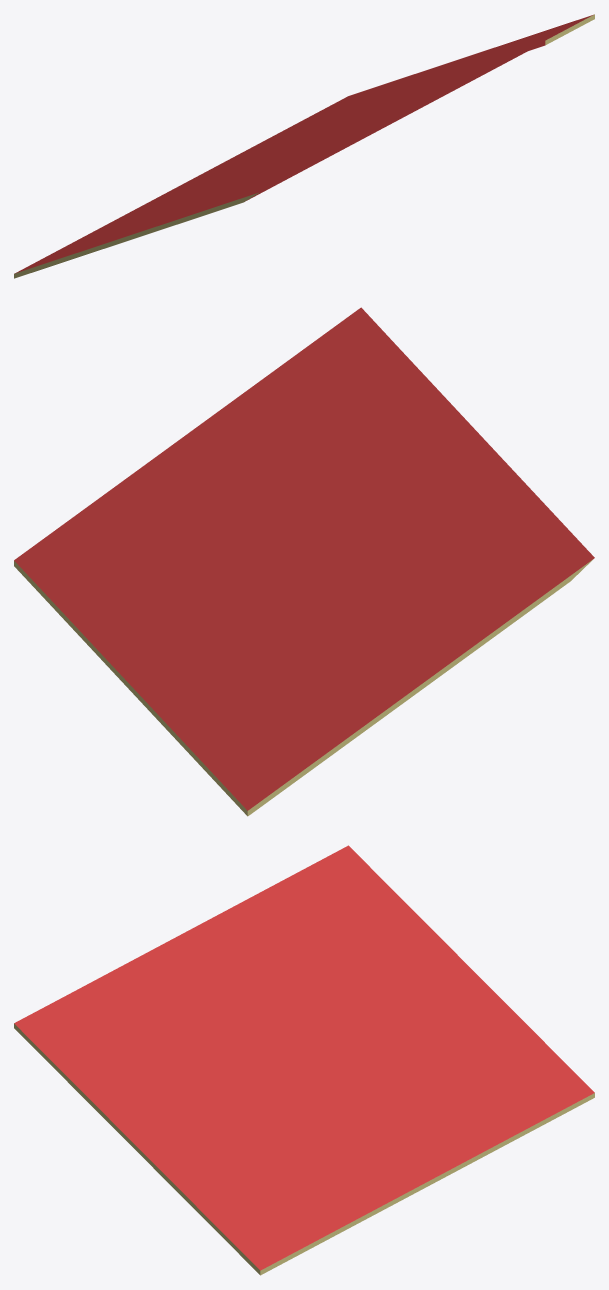
3 views of the same model, one above another, from view 1: azimuth 90°, elevation 25°; view 2: azimuth 150°, elevation 25°; view 3: azimuth 270°, elevation 25° (orthographic). The views are drawn at different scales.
Size of the model in its own units: 11.55 by 10.88 by 3.5.
